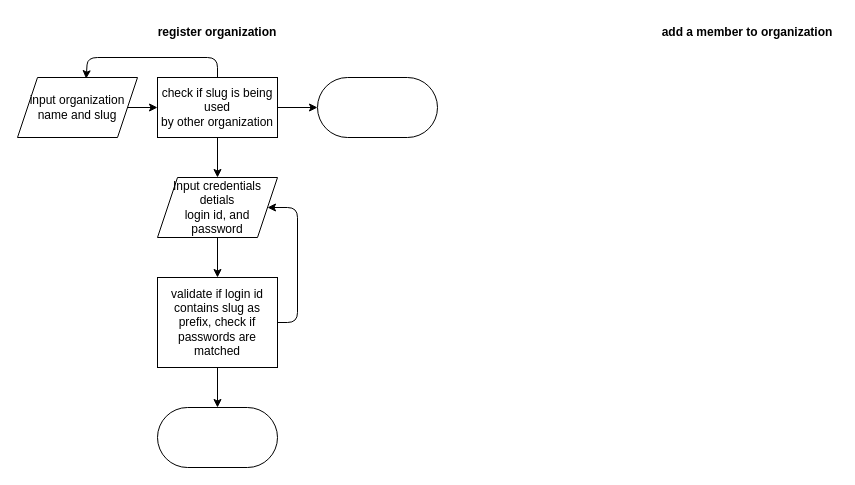
Image size: 855x485. Some labels were removed from this diagram. The shapes that lost their labels are listed below. From the top down, each one's centre as x and y in pixels, then its label:
At (x=377, y=107): "store to orgs".
At (x=217, y=437): "update org".
